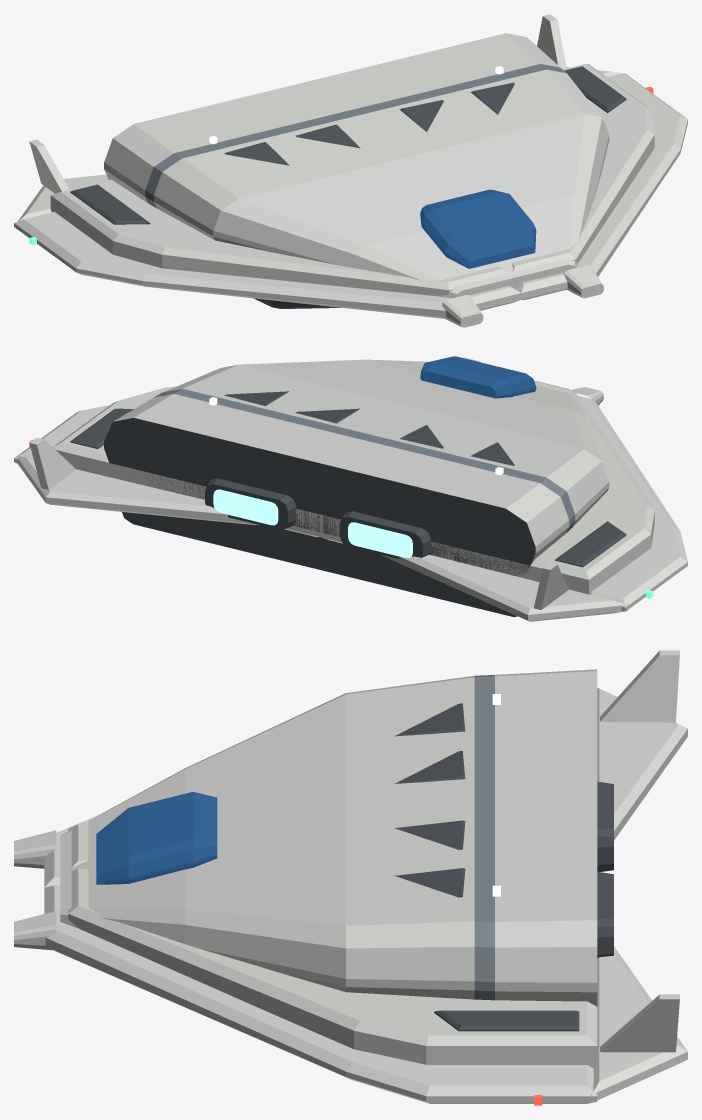
The model's file is cobra-mk4.glb.
The picture shows the model from 3 angles, top to bottom: view 1: azimuth 30°, elevation 25°; view 2: azimuth 150°, elevation 25°; view 3: azimuth 270°, elevation 25°; orthographic projection. The views are drawn at different scales.
Parts seen in each view (by area): view 1: cobra-mk4; view 2: cobra-mk4; view 3: cobra-mk4.
Part boxes in pixels (x1,y1,x2,y2): cobra-mk4: (14,14,687,327); cobra-mk4: (14,356,687,621); cobra-mk4: (14,650,687,1105).
Bounding box in the file's own units: 48.92 × 8.88 × 33.5.
